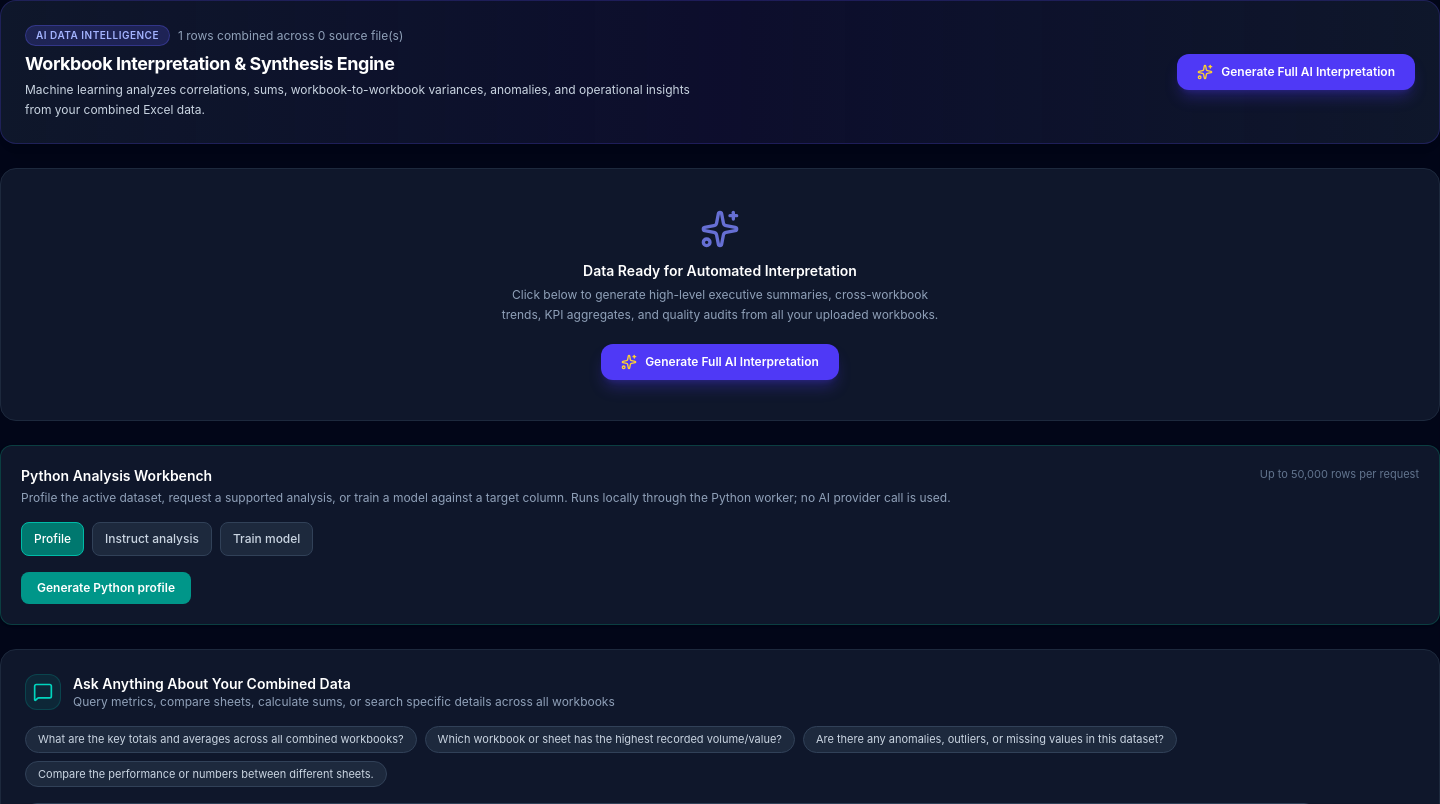
Test case: DataInterpreterView Python workbench › explains that static hosting cannot run the Python worker
The width and height of the screenshot is (1440, 804).
Click the button "Generate Python profile": (106, 588) [21,572,191,604]
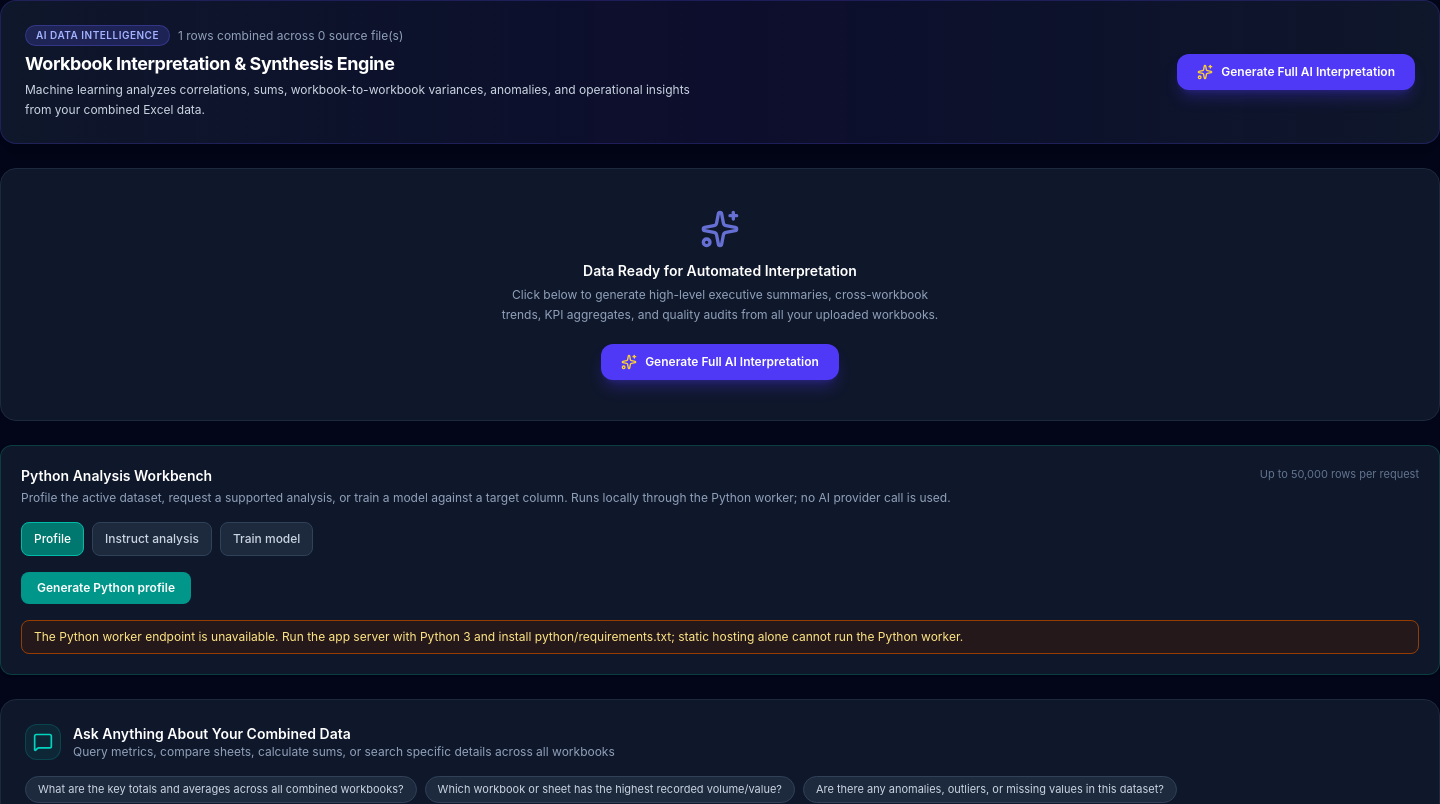
Expected: the message shows "static hosting alone cannot run the Python worker", [34,629,963,644]
